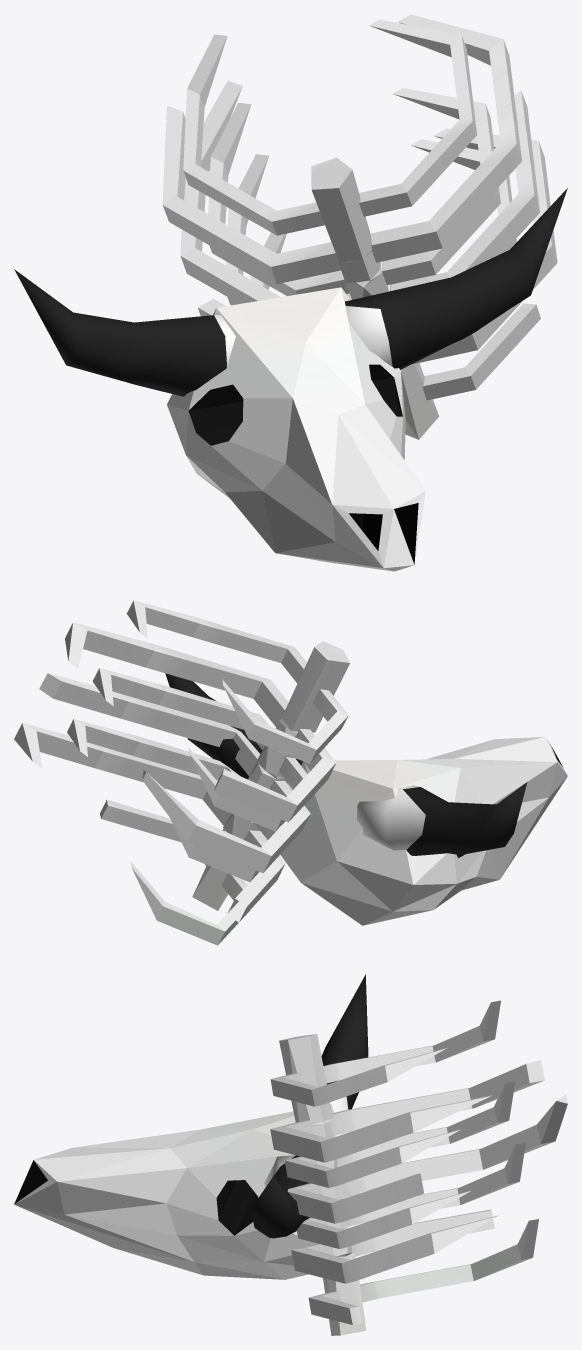
File: Ossos2.glb
3 views of the same model, one above another, from view 1: azimuth 30°, elevation 25°; view 2: azimuth 150°, elevation 25°; view 3: azimuth 270°, elevation 25° (orthographic). The views are drawn at different scales.
Visible parts, largest first — view 1: CabecaOsso; view 2: CabecaOsso; view 3: CabecaOsso.
Boxes of the visible parts, bbox=[...] form: CabecaOsso: bbox=[14, 14, 567, 571]; CabecaOsso: bbox=[14, 600, 567, 945]; CabecaOsso: bbox=[14, 974, 567, 1335].
Bounding box in the file's own units: 3.28 × 1.99 × 3.32.
1 material, 1 textured.
